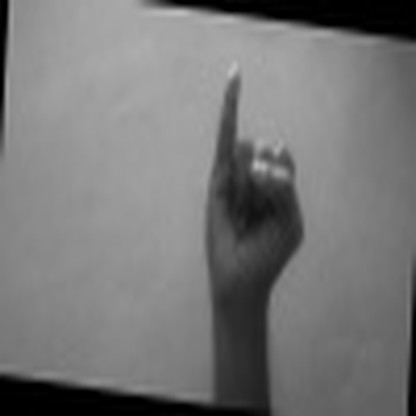i: (187, 56, 320, 291)
